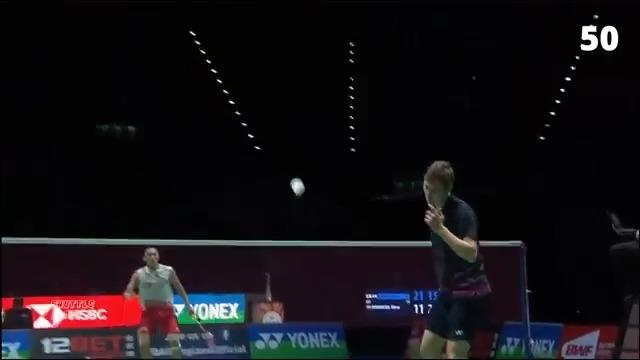Shuttlecock: (284, 174, 308, 198)
